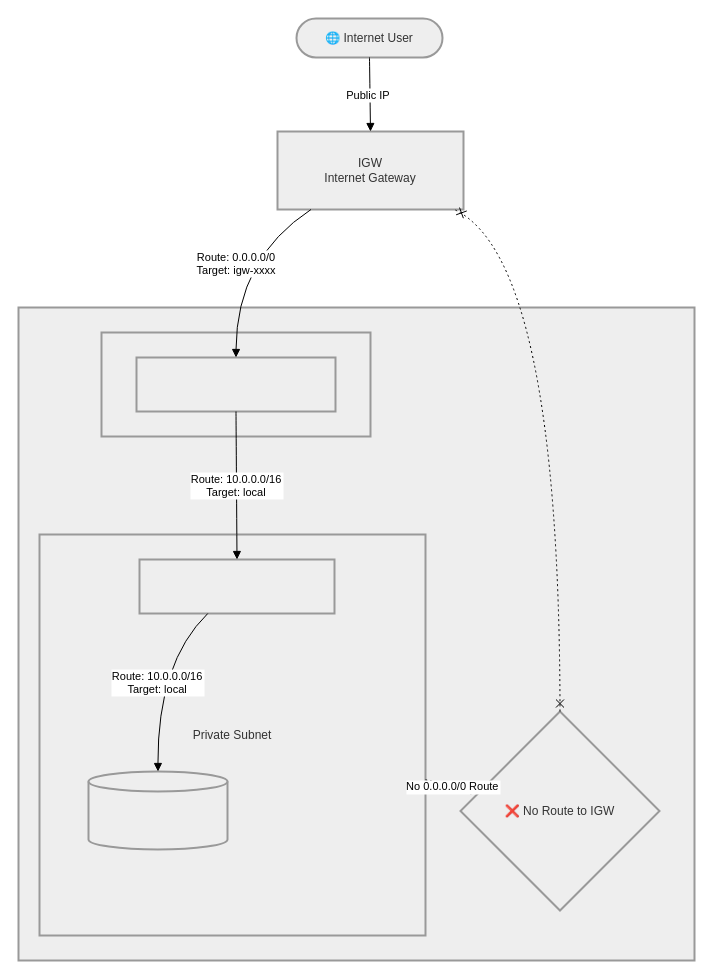
The diagram is 712 pixels wide and 978 high, and some of its shapes have lost their labels. The centre of each missing label's shape, as x and y in pixels:
⚙️ EC2 App Server: point (236, 586)
💻 EC2 Web Server: point (235, 384)
🗄️ RDS Database: point (157, 810)
